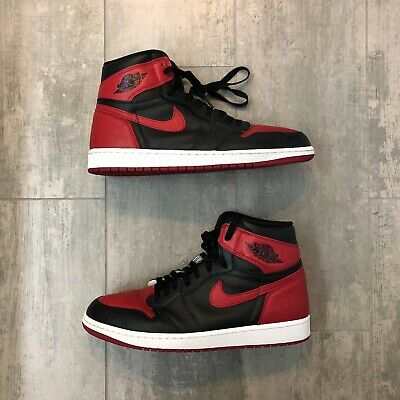Air Jordan 1 Bred: (75, 206, 320, 359), (81, 42, 330, 178)
